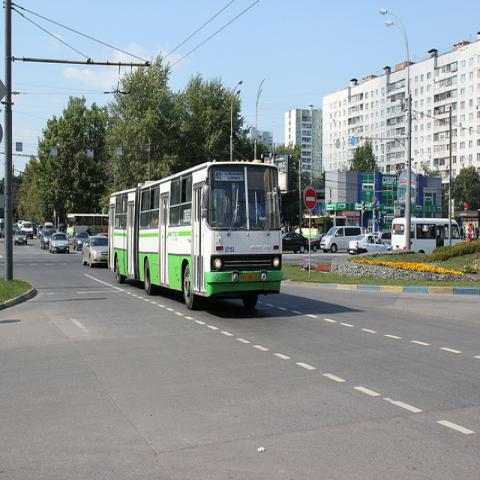bus: (108, 159, 282, 311), (391, 218, 461, 254), (65, 213, 109, 239)
car: (81, 235, 109, 268), (348, 234, 391, 254), (282, 232, 308, 254), (49, 232, 69, 254), (40, 228, 56, 249), (73, 231, 89, 250), (311, 233, 326, 252), (20, 221, 34, 240), (14, 230, 28, 245), (16, 220, 25, 229)
truck: (320, 226, 363, 253)
